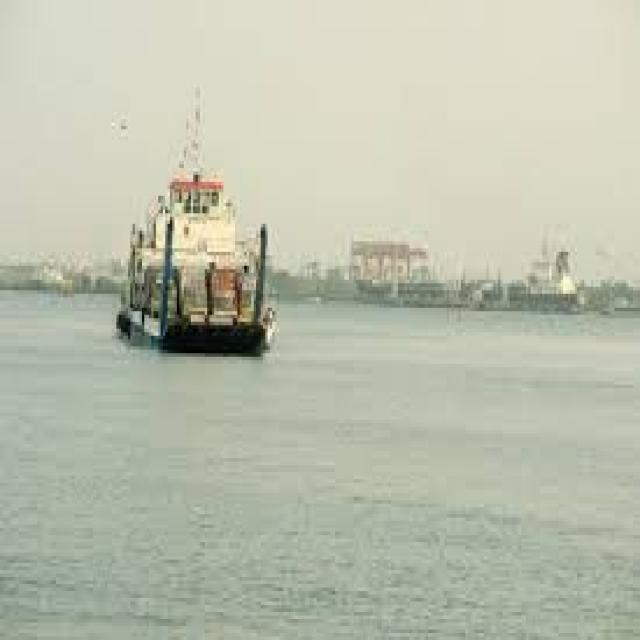houseboat: (105, 105, 286, 351)
